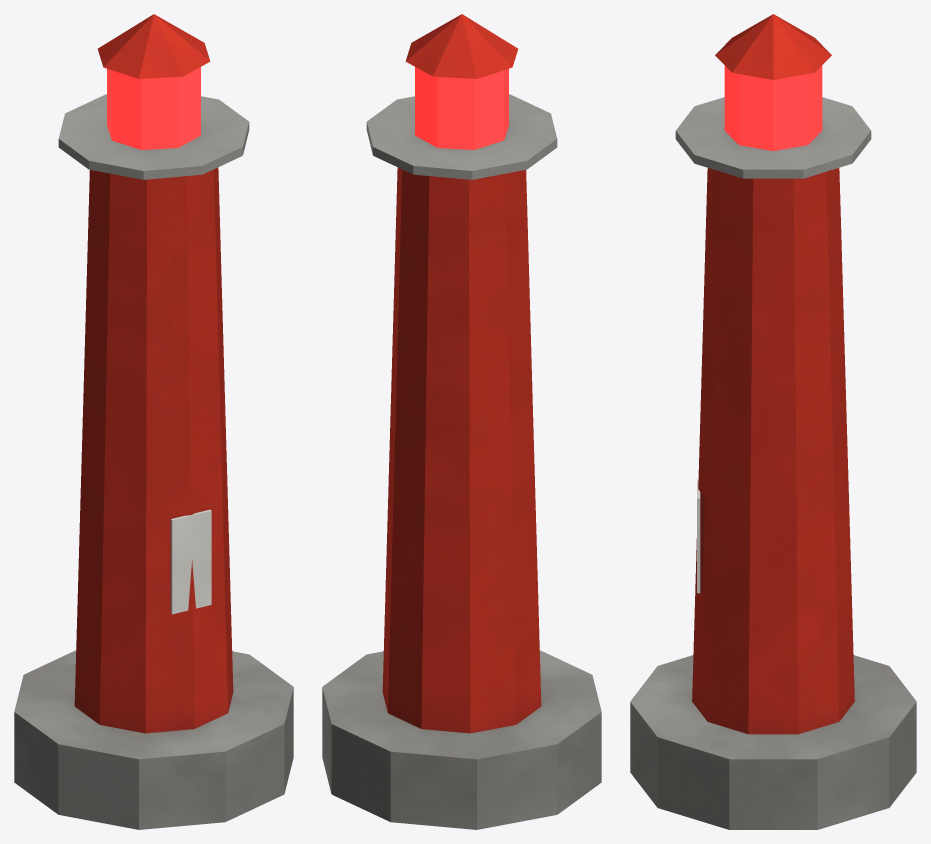
The model's file is fyr_jp_tex.glb.
3 renders of one model, left to right at view 1: azimuth 30°, elevation 25°; view 2: azimuth 150°, elevation 25°; view 3: azimuth 270°, elevation 25°, orthographic.
Parts seen in each view (by area): view 1: fyr_jp; view 2: fyr_jp; view 3: fyr_jp.
Boxes of the visible parts, box(x1,y1,x2,y2) form: fyr_jp: box(14, 14, 293, 829); fyr_jp: box(322, 14, 601, 829); fyr_jp: box(630, 14, 916, 829).
Size of the model in its own units: 4.18 by 12.85 by 4.4.
4 materials, 3 textured.
